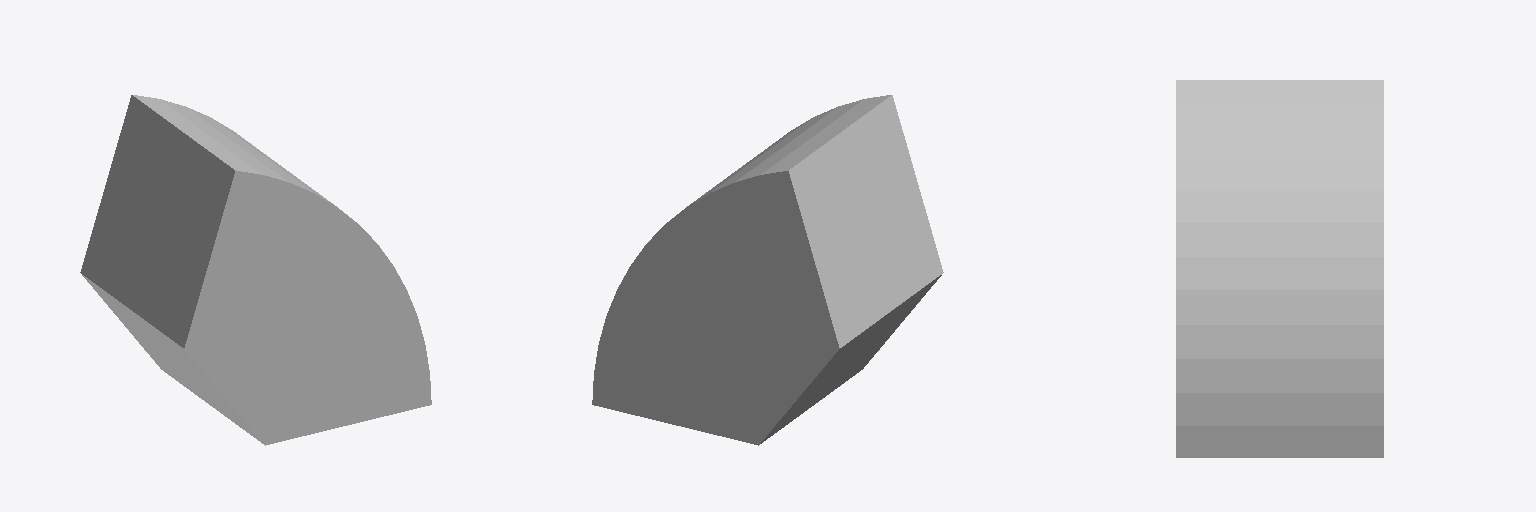
File: round_pentagon_hole_3.obj
3 views of the same model, side by side, from view 1: azimuth 30°, elevation 25°; view 2: azimuth 150°, elevation 25°; view 3: azimuth 270°, elevation 25° (orthographic).
Parts seen in each view (by area): view 1: Body119; view 2: Body119; view 3: Body119.
Part boxes in pixels (bbox=[...]): Body119: bbox=[80, 95, 431, 445]; Body119: bbox=[592, 95, 943, 445]; Body119: bbox=[1176, 80, 1383, 457].
Bounding box in the file's own units: 0.055 × 0.0599 × 0.04.